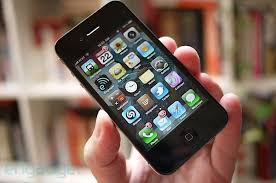iphone: (53, 1, 229, 175)
iphone4: (53, 1, 229, 174)
